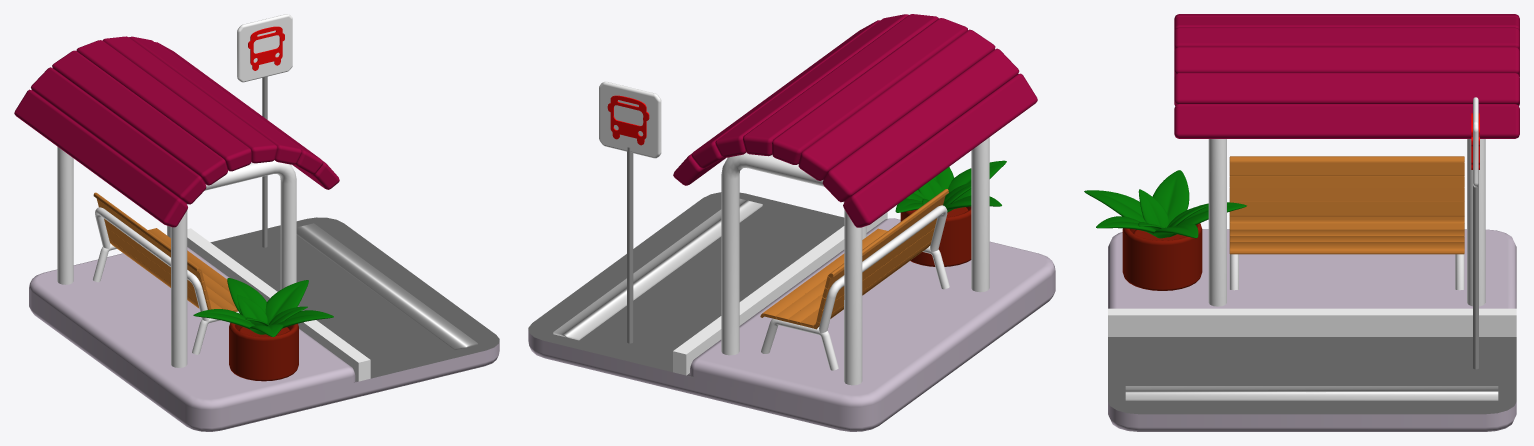
File: bus-stop.fbx
The picture shows the model from 3 angles, left to right: view 1: azimuth 30°, elevation 25°; view 2: azimuth 150°, elevation 25°; view 3: azimuth 270°, elevation 25°; orthographic projection. The views are drawn at different scales.
Parts seen in each view (by area): view 1: Cylinder, Plane, Plane.001, Vert, Plane.013, Plane.002, Circle, Plane.003, Plane.004, Vert.001, Plane.009, Curve (+5 smaller); view 2: Cylinder, Plane, Plane.001, Vert, Plane.002, Plane.013, Plane.003, Vert.001, Plane.004, Circle, Vert.002, Curve (+1 smaller); view 3: Cylinder, Plane.001, Plane, Plane.002, Plane.003, Plane.013, Vert, Circle, Plane.006, Vert.002, Plane.007, Vert.001 (+5 smaller).
Boxes of the visible parts, box(x1,y1,x2,y2) form: Cylinder: box(14, 36, 339, 227); Plane: box(29, 247, 499, 431); Plane.001: box(210, 217, 499, 382); Vert: box(57, 146, 296, 367); Plane.013: box(296, 223, 477, 350); Plane.002: box(93, 192, 237, 311); Circle: box(229, 322, 298, 381); Plane.003: box(187, 228, 370, 381); Plane.004: box(237, 14, 292, 82); Vert.001: box(93, 207, 239, 354); Plane.009: box(265, 280, 308, 324); Curve: box(248, 26, 284, 70); Cylinder: box(673, 14, 1037, 227); Plane: box(528, 218, 1055, 431); Plane.001: box(528, 192, 844, 377); Vert: box(721, 137, 989, 385); Plane.002: box(760, 189, 948, 329); Plane.013: box(553, 198, 762, 340); Plane.003: box(673, 212, 887, 375); Vert.001: box(761, 205, 949, 370); Plane.004: box(599, 81, 661, 158); Circle: box(900, 206, 971, 266); Vert.002: box(627, 147, 633, 343); Curve: box(607, 95, 649, 145); Cylinder: box(1174, 14, 1519, 138); Plane.001: box(1108, 337, 1516, 414); Plane: box(1108, 229, 1516, 431); Plane.002: box(1229, 156, 1464, 254); Plane.003: box(1108, 308, 1516, 336); Plane.013: box(1125, 386, 1498, 400); Vert: box(1208, 139, 1485, 306); Circle: box(1122, 223, 1202, 290); Plane.006: box(1152, 170, 1189, 223); Vert.002: box(1473, 170, 1478, 369); Plane.007: box(1084, 190, 1147, 232); Vert.001: box(1229, 254, 1464, 290).
Bounding box in the file's own units: 406 × 305 × 426.
